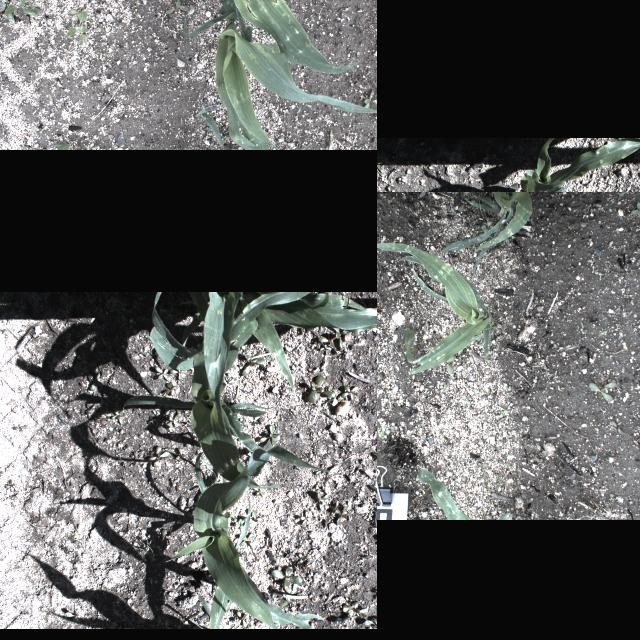crop: (121, 292, 332, 488), (164, 449, 324, 629), (184, 0, 377, 149), (177, 292, 377, 393), (377, 242, 498, 375), (218, 0, 370, 73), (441, 192, 533, 273), (198, 499, 250, 629), (519, 137, 640, 192), (203, 292, 243, 434), (415, 468, 471, 520), (500, 514, 510, 520)
weed: (0, 0, 43, 35), (60, 9, 90, 51), (313, 320, 352, 350), (270, 566, 300, 592), (308, 374, 334, 402), (587, 377, 613, 403), (146, 447, 172, 468), (244, 354, 266, 376), (258, 426, 280, 446), (244, 510, 262, 528), (87, 372, 103, 392), (347, 602, 367, 618), (341, 384, 359, 400), (134, 542, 152, 558), (333, 504, 347, 524), (170, 363, 187, 379), (316, 493, 329, 511), (235, 610, 247, 628), (164, 382, 178, 396), (166, 414, 180, 428), (270, 584, 282, 600), (300, 508, 310, 526), (111, 411, 123, 425), (155, 368, 169, 380), (610, 421, 622, 435), (9, 423, 27, 432), (158, 528, 166, 548), (363, 617, 377, 628), (629, 201, 640, 215), (239, 534, 251, 546), (4, 480, 16, 492), (314, 464, 328, 474), (65, 612, 79, 622), (95, 416, 109, 426), (176, 448, 187, 460), (378, 427, 389, 439), (252, 486, 262, 496), (321, 345, 331, 355), (146, 415, 154, 427), (279, 602, 289, 610), (377, 155, 386, 163), (236, 518, 242, 530), (462, 393, 470, 402), (372, 449, 377, 462), (498, 410, 506, 418), (501, 386, 511, 392), (439, 384, 446, 392), (374, 585, 377, 600), (72, 531, 76, 537), (0, 328, 6, 332)
